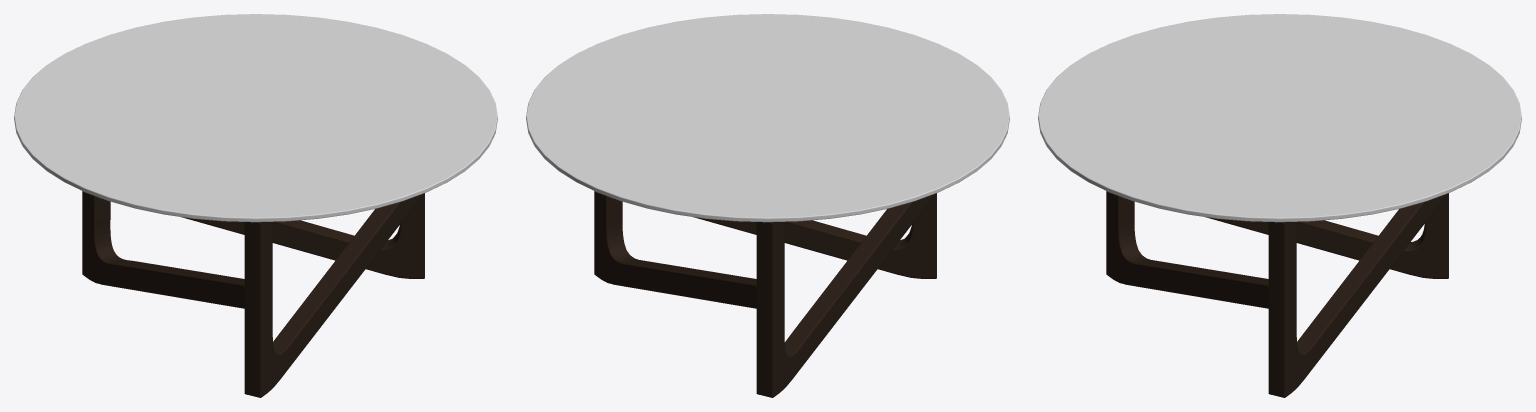
3 views of the same model, side by side, from view 1: azimuth 30°, elevation 25°; view 2: azimuth 150°, elevation 25°; view 3: azimuth 270°, elevation 25° (orthographic).
Parts seen in each view (by area): view 1: 10ravens_3D_M_004_Modern_table_20; view 2: 10ravens_3D_M_004_Modern_table_20; view 3: 10ravens_3D_M_004_Modern_table_20.
Boxes of the visible parts, x1,y1,x2,y2 form: 10ravens_3D_M_004_Modern_table_20: (14, 14, 497, 397); 10ravens_3D_M_004_Modern_table_20: (526, 14, 1009, 397); 10ravens_3D_M_004_Modern_table_20: (1038, 14, 1521, 397).
Size of the model in its own units: 99.15 by 45 by 99.15.
